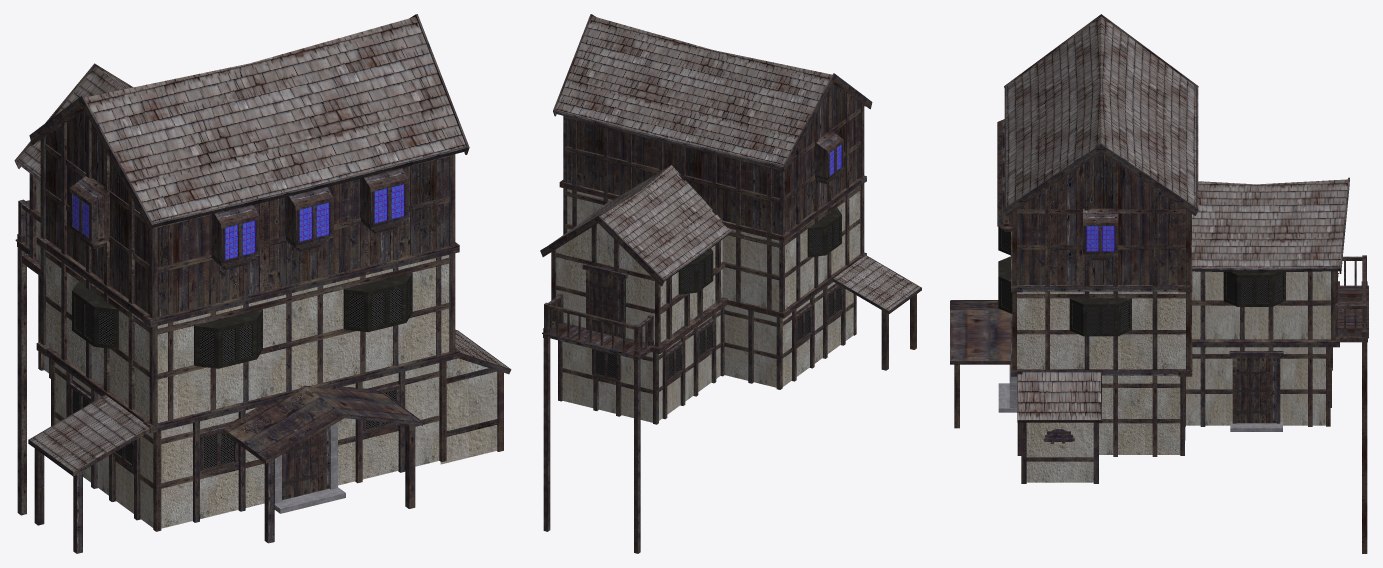
The model's file is thouse18.dae.
3 views of the same model, side by side, from view 1: azimuth 30°, elevation 25°; view 2: azimuth 150°, elevation 25°; view 3: azimuth 270°, elevation 25° (orthographic). The views are drawn at different scales.
Visible parts, largest first — view 1: House2_Roof, House2_Level3, House2_Level2, House2_Level1, House2_Level2_Beams, House2_Level3_Beams, House2_Level1_Beams, Roof1Outer, Roof2Outer, BuildingExtensions4, House2_Level2_SeperatorBeams, House2_Roof_Frame (+28 smaller); view 2: House2_Roof, House2_Level3, House5_Roof, House2_Level3_Beams, House2_Level2, House5_Level2, House5_Level1, House2_Level1, House2_Level2_Beams, House5_Level1_Beams, House2_Level1_Beams, House5_Level2_Beams (+18 smaller); view 3: House2_Roof, House2_Level3, House5_Roof, House2_Level2, House5_Level2, House5_Level1, House2_Level1, House2_Level3_Beams, BuildingExtensions4Roof, BuildingExtensions4, Roof1Outer, House2_Level2_Beams (+22 smaller).
Boxes of the visible parts, <box> form: House2_Roof: <box>85,16,465,222</box>; House2_Level3: <box>46,110,449,316</box>; House2_Level2: <box>46,250,449,422</box>; House2_Level1: <box>55,363,439,528</box>; House2_Level2_Beams: <box>40,247,455,424</box>; House2_Level3_Beams: <box>40,114,455,318</box>; House2_Level1_Beams: <box>51,360,446,531</box>; Roof1Outer: <box>224,385,420,459</box>; Roof2Outer: <box>30,395,148,471</box>; BuildingExtensions4: <box>440,358,497,464</box>; House2_Level2_SeperatorBeams: <box>36,236,459,327</box>; House2_Roof_Frame: <box>29,14,469,231</box>; House2_Roof: <box>555,16,832,165</box>; House2_Level3: <box>567,84,860,233</box>; House5_Roof: <box>561,165,731,278</box>; House2_Level3_Beams: <box>563,87,864,235</box>; House2_Level2: <box>567,186,860,310</box>; House5_Level2: <box>556,223,722,344</box>; House5_Level1: <box>562,310,720,422</box>; House2_Level1: <box>724,282,853,387</box>; House2_Level2_Beams: <box>563,183,864,312</box>; House5_Level1_Beams: <box>558,307,724,424</box>; House2_Level1_Beams: <box>724,283,856,389</box>; House5_Level2_Beams: <box>551,224,725,346</box>; House2_Roof: <box>1006,16,1196,206</box>; House2_Level3: <box>1017,152,1185,284</box>; House5_Roof: <box>1191,179,1348,268</box>; House2_Level2: <box>1017,291,1185,368</box>; House5_Level2: <box>1191,271,1330,339</box>; House5_Level1: <box>1186,347,1325,425</box>; House2_Level1: <box>1099,375,1180,454</box>; House2_Level3_Beams: <box>1012,161,1191,285</box>; BuildingExtensions4Roof: <box>1018,372,1100,419</box>; BuildingExtensions4: <box>1026,422,1093,482</box>; Roof1Outer: <box>950,301,1010,360</box>; House2_Level2_Beams: <box>1012,291,1191,369</box>.
Size of the model in its own units: 11.52 by 11.9 by 14.08.
Materials: 28 (28 with a texture image).
